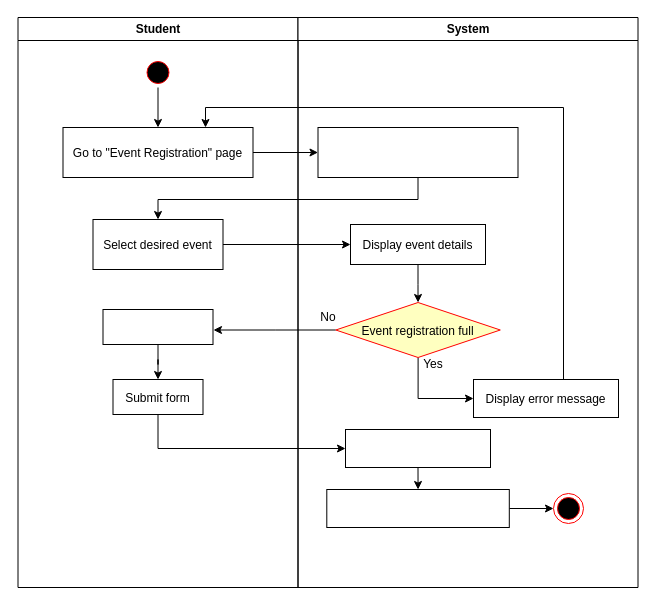
Some shapes in this 655 by 605 pixel diagram are drawn without their labels. Here are the shapes that lost their labels. From the top down, the centre of each, then its label:
the point at 417,152: Display a list of available events
the point at 157,326: Fills in information
the point at 417,448: Confirms registration
the point at 417,508: Display confirmation message
